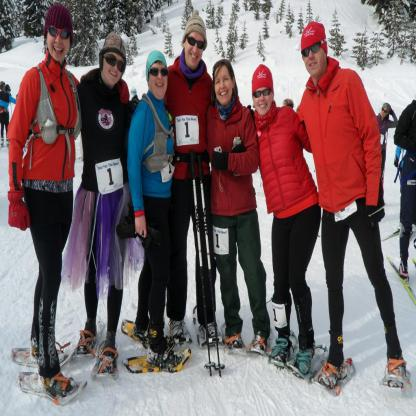face: (49, 28, 72, 61), (303, 43, 325, 77), (214, 69, 234, 105), (185, 34, 205, 65), (148, 66, 168, 96), (105, 54, 125, 82), (254, 87, 273, 116), (382, 109, 387, 117), (4, 85, 6, 89)
